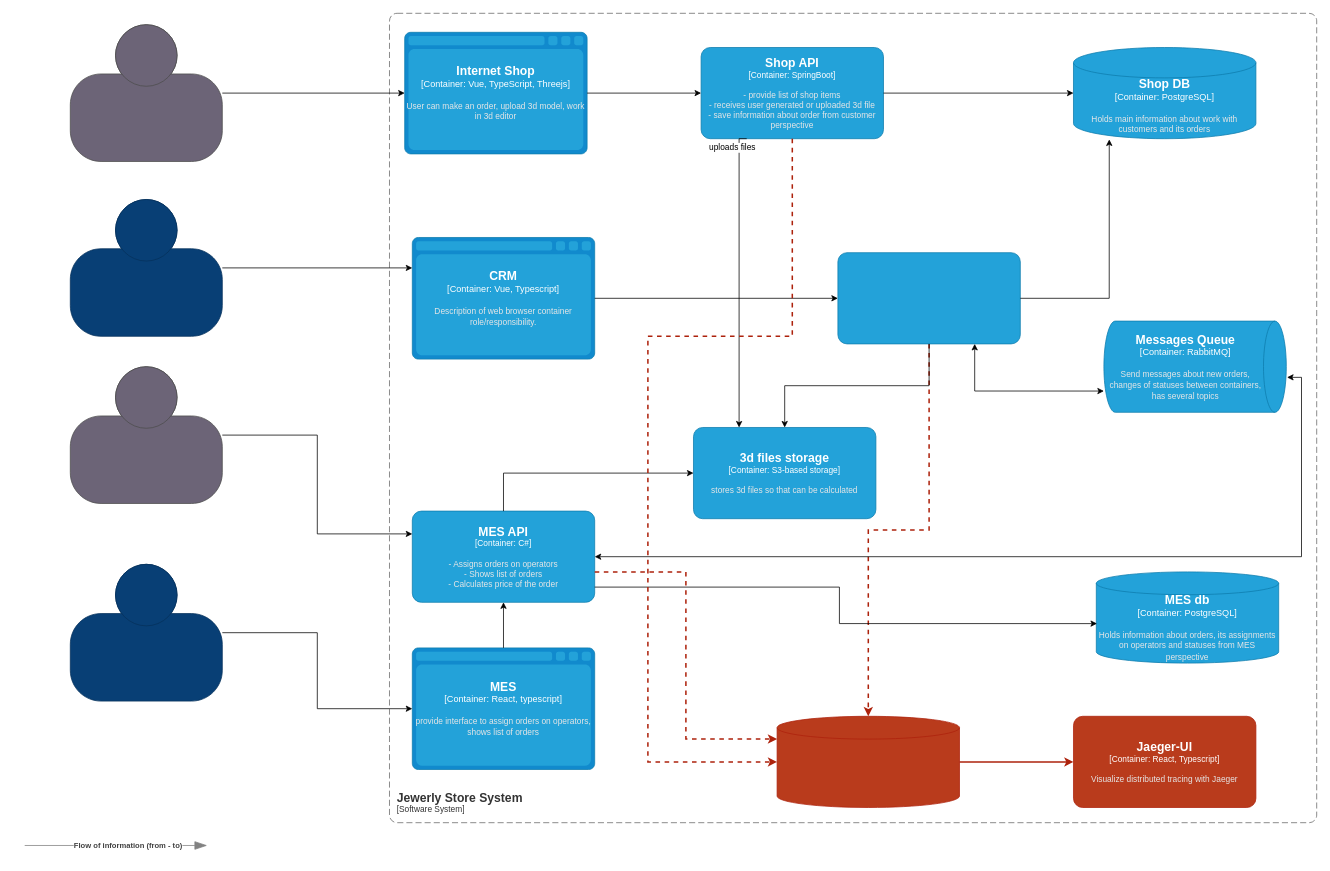
Some shapes in this 1330 by 871 pixel diagram are drawn without their labels. The shapes that lost their labels are listed below. From the top down, each one's box as (x1, y1, x2, y2) in pixels, then its label:
(70, 24, 222, 162): Customer [Person] Description of external person.
(70, 199, 222, 336): Seller [Person] Operates with order, confirms manufacturing for the user
(837, 252, 1020, 344): CRM API [Container: SpringBoot] Description of container role/responsibility.
(70, 366, 222, 504): API user [Person] Description of external person.
(70, 564, 222, 701): Operator [Person] Takes order in work, manufactures jewerly
(776, 716, 960, 808): Jaeger [Container: OpenTelemetry] Open source, distributed tracing platform
